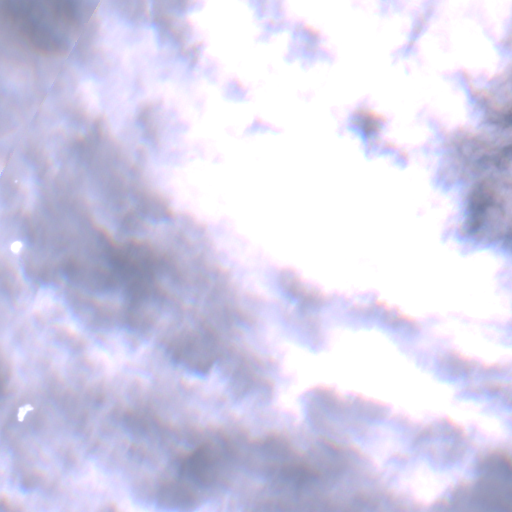Iceberg: (18, 405, 32, 420), (11, 241, 21, 252)
